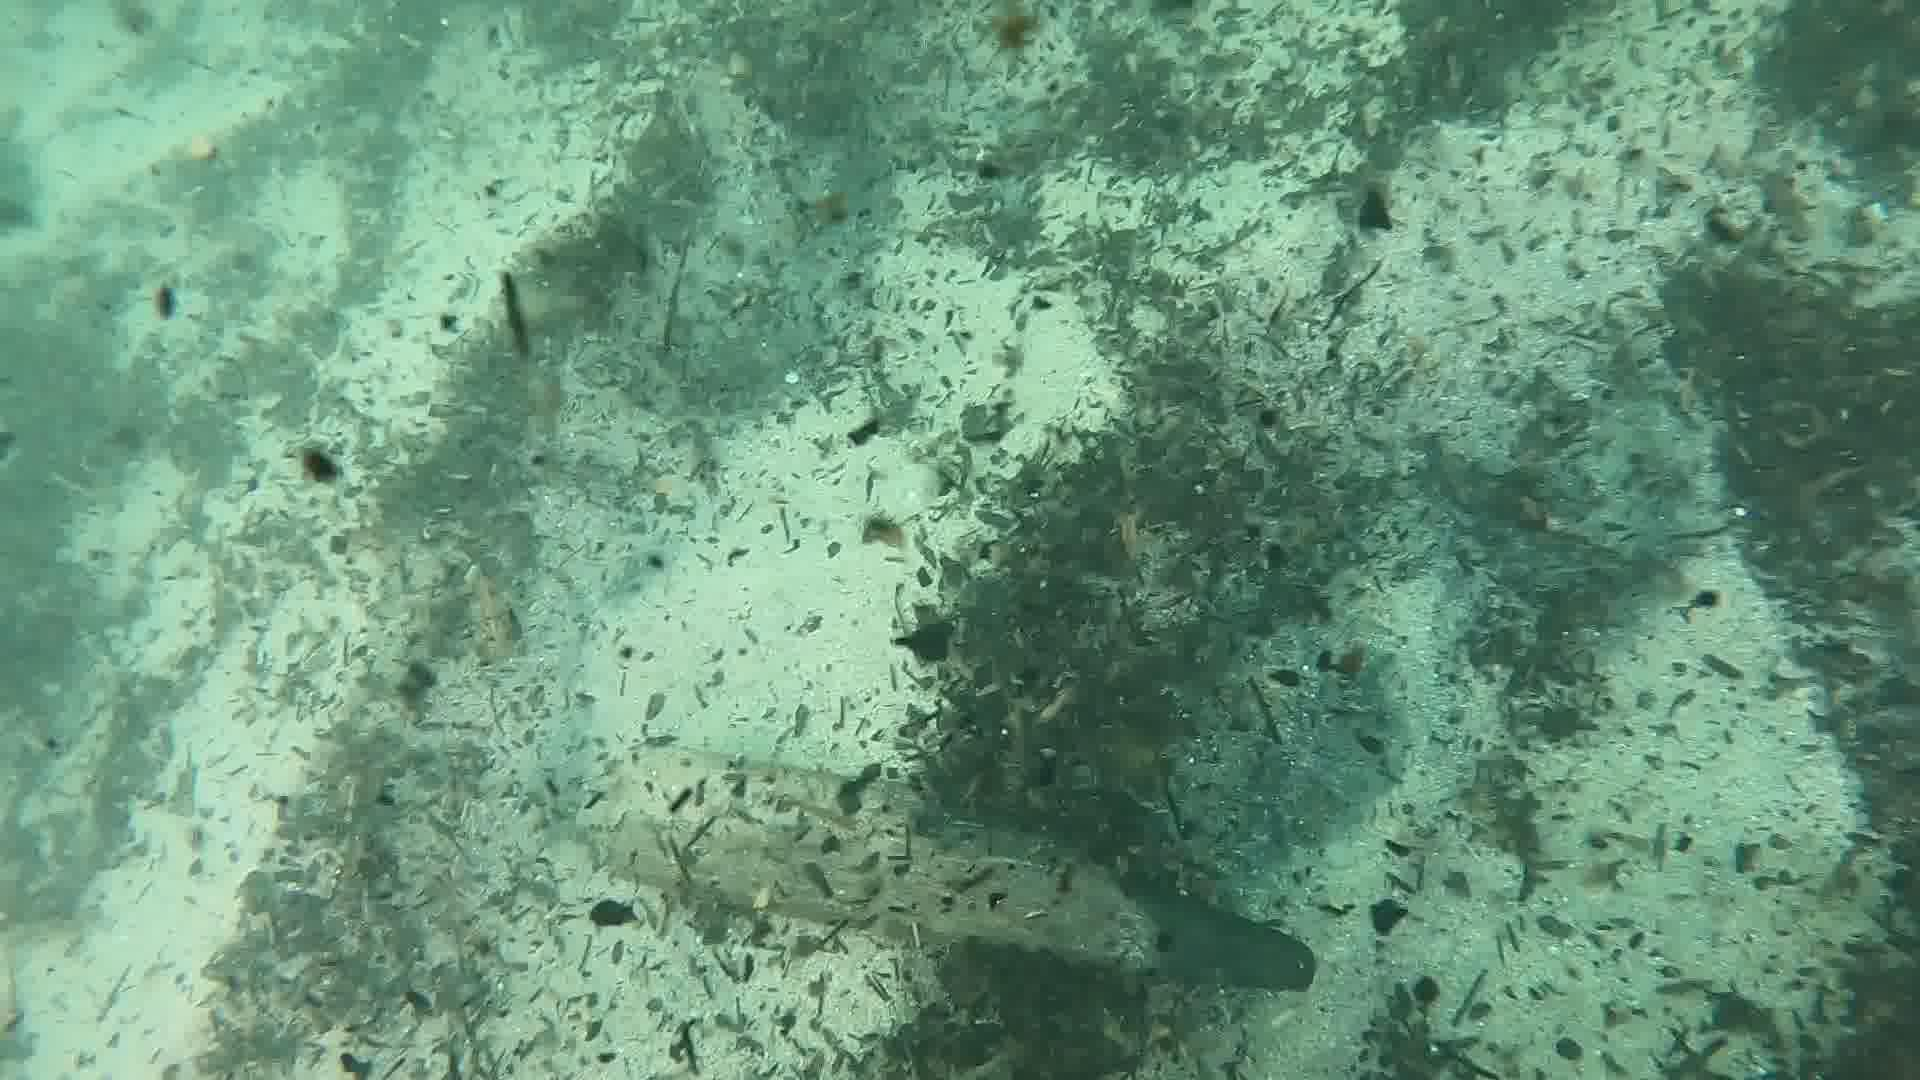wood: (595, 744, 1317, 992)
